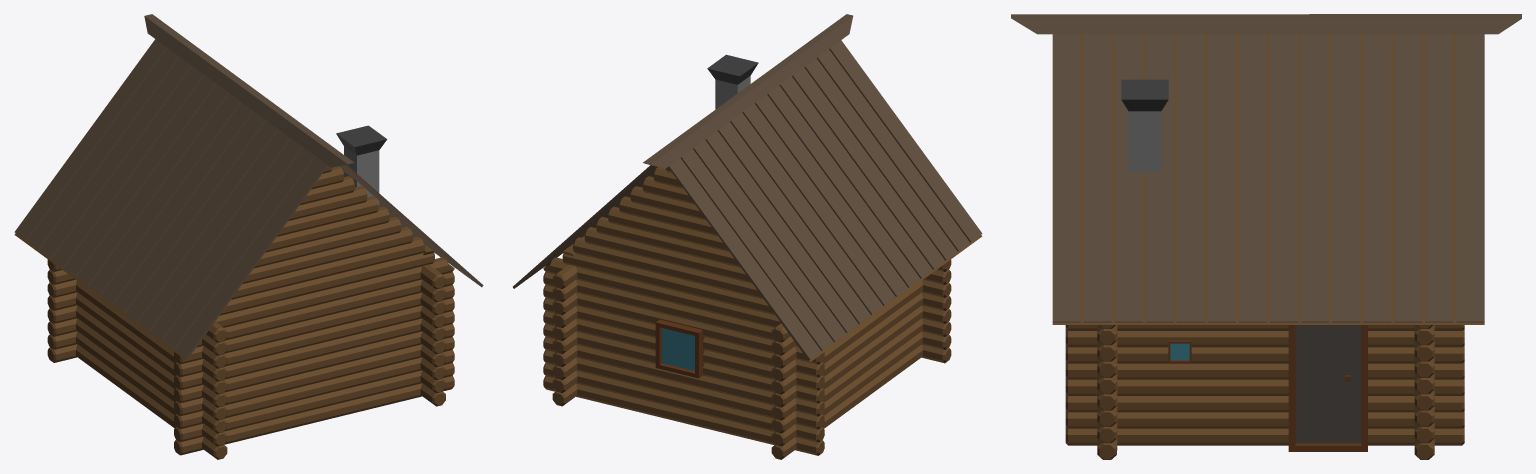
Rendered from House(1).fbx.
3 renders of one model, left to right at view 1: azimuth 30°, elevation 25°; view 2: azimuth 150°, elevation 25°; view 3: azimuth 270°, elevation 25°, orthographic. The views are drawn at different scales.
Parts seen in each view (by area): view 1: Plane.040; view 2: Plane.040; view 3: Plane.040.
Boxes of the visible parts, x1=… form: Plane.040: x1=14, y1=14, x2=483, y2=459; Plane.040: x1=513, y1=14, x2=982, y2=459; Plane.040: x1=1011, y1=14, x2=1521, y2=459.
Bounding box in the file's own units: 635 × 584 × 751.
